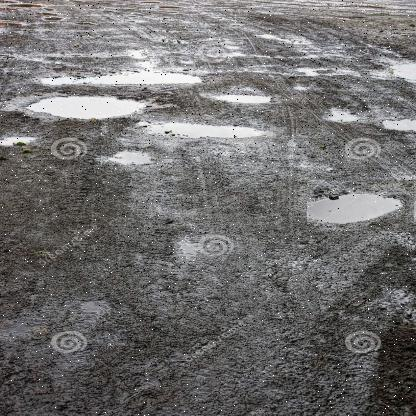pothole_water: (13, 77, 168, 128), (130, 107, 274, 152), (308, 180, 416, 232), (196, 76, 292, 116)
